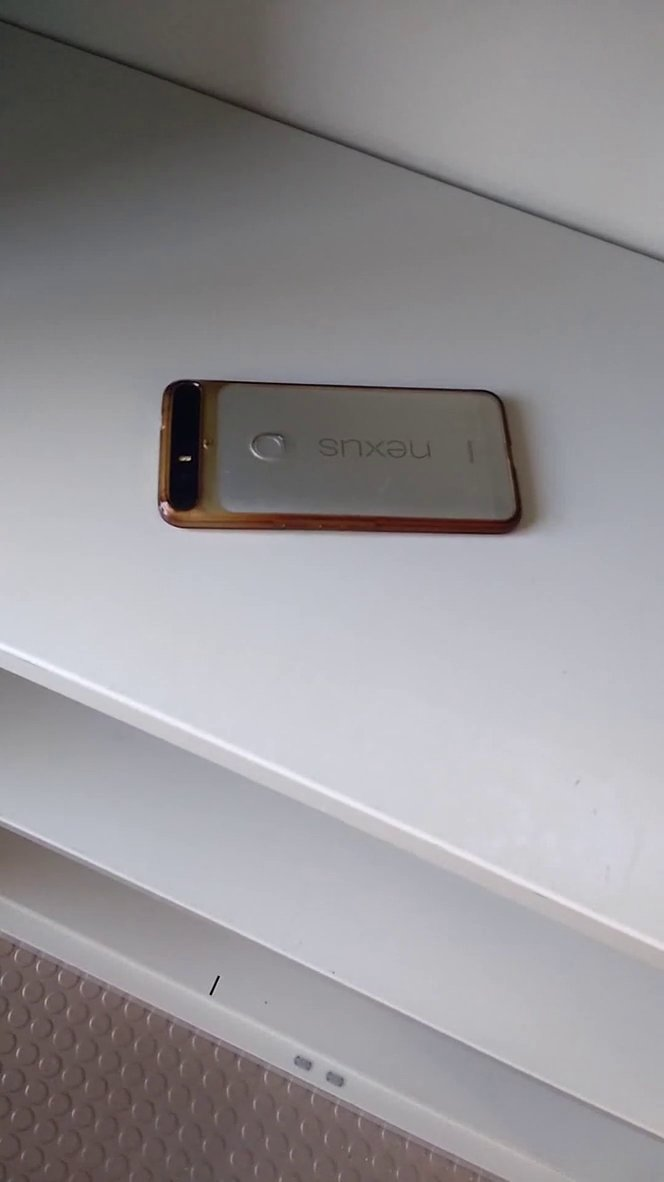phone: (146, 364, 544, 556)
